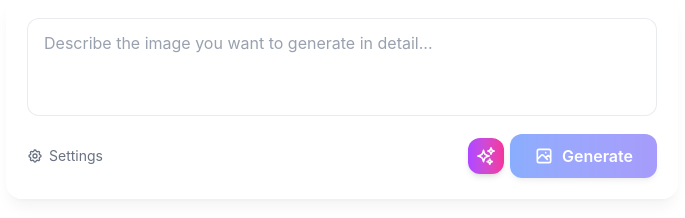
Scenario: ImageGenerator › enables generate button when input has text
Type "a cat" into the text box with placeholder "Describe the image you want to generate in detail..." at (342,67), box [27,18,657,116]
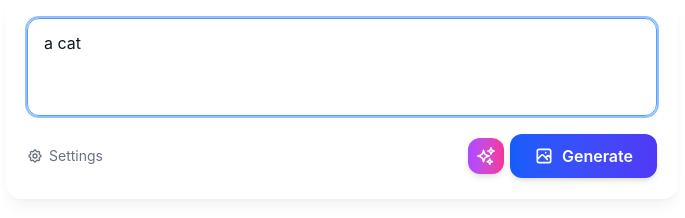
Expected: the button "Generate" is enabled, [510,134,657,178]
